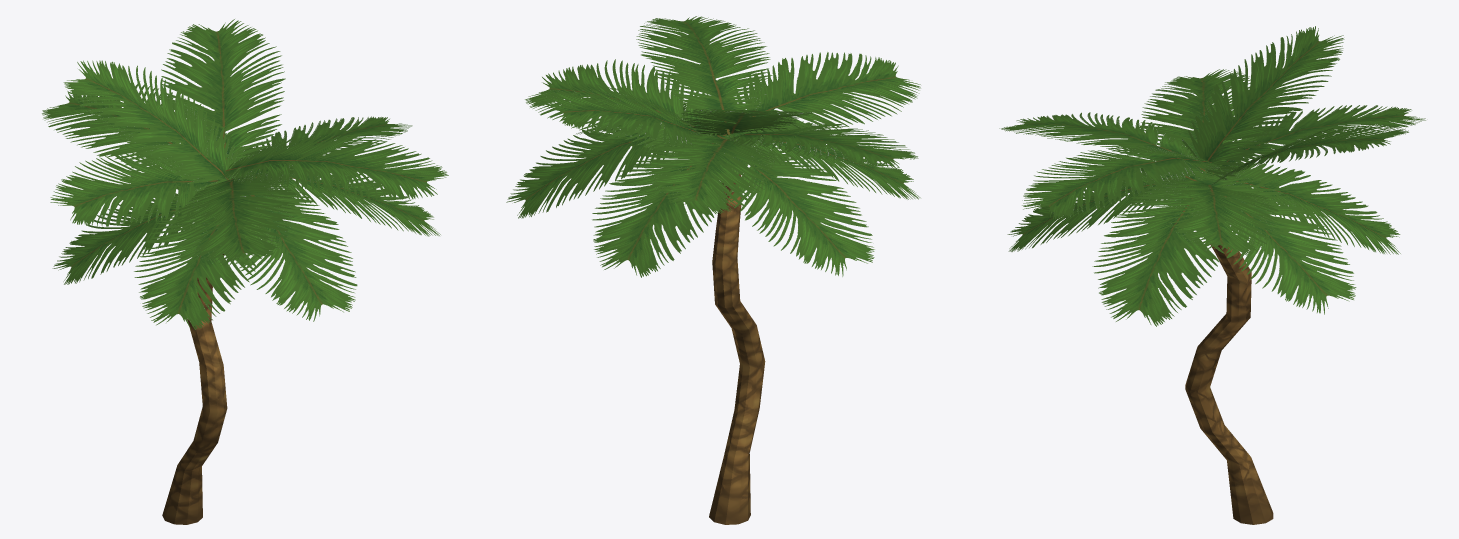
Rendered from Palm Tree Double Bend.fbx.
The picture shows the model from 3 angles, left to right: view 1: azimuth 30°, elevation 25°; view 2: azimuth 150°, elevation 25°; view 3: azimuth 270°, elevation 25°; orthographic projection. The views are drawn at different scales.
Parts seen in each view (by area): view 1: pasted__group2_pasted__pasted__group1_pasted__pasted__pasted, pCylinder2; view 2: pasted__group2_pasted__pasted__group1_pasted__pasted__pasted, pCylinder2; view 3: pasted__group2_pasted__pasted__group1_pasted__pasted__pasted, pCylinder2.
Boxes of the visible parts, x1,y1,x2,y2 form: pasted__group2_pasted__pasted__group1_pasted__pasted__pasted: (42, 19, 448, 329); pCylinder2: (162, 254, 227, 524); pasted__group2_pasted__pasted__group1_pasted__pasted__pasted: (506, 16, 920, 277); pCylinder2: (709, 174, 765, 524); pasted__group2_pasted__pasted__group1_pasted__pasted__pasted: (999, 26, 1425, 326); pCylinder2: (1185, 244, 1273, 524).
Size of the model in its own units: 0.141 by 0.1609 by 0.1495.
Materials: 14 (14 with a texture image).
